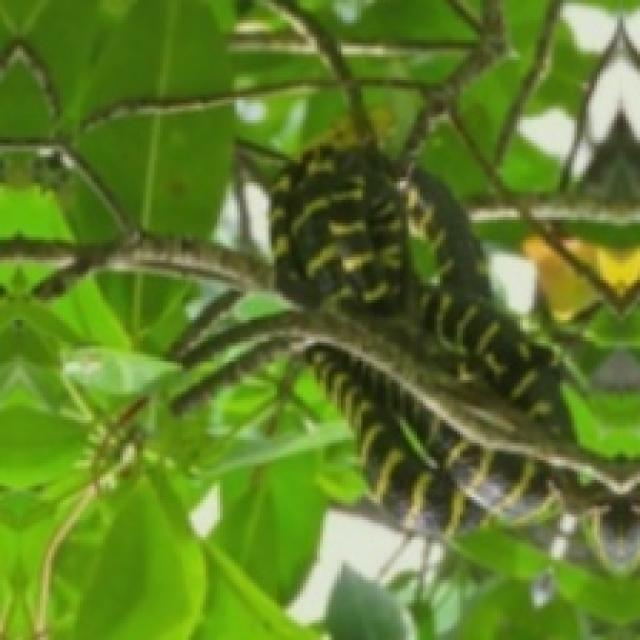mangrove cat snake: (271, 129, 564, 418), (310, 351, 640, 571)
